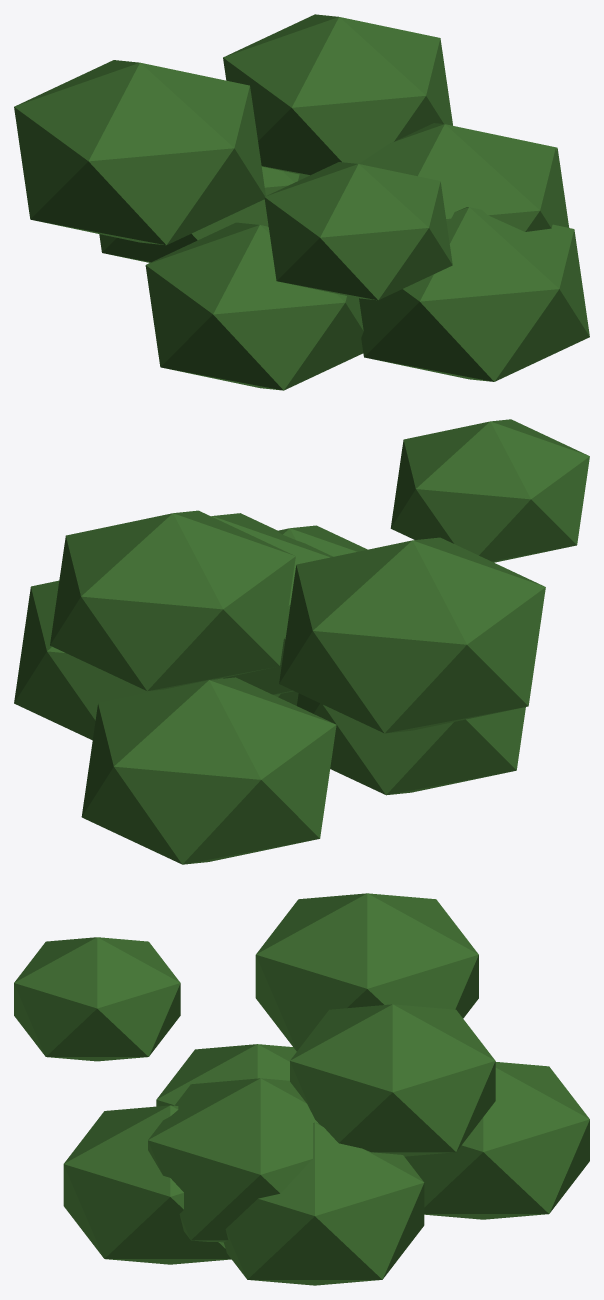
Rendered from ekin_patates_y.glb.
3 renders of one model, top to bottom at view 1: azimuth 30°, elevation 25°; view 2: azimuth 150°, elevation 25°; view 3: azimuth 270°, elevation 25°, orthographic. The views are drawn at different scales.
Visible parts, largest first — view 1: Cali; view 2: Cali; view 3: Cali.
Boxes of the visible parts, x1=… form: Cali: x1=14, y1=14, x2=589, y2=390; Cali: x1=14, y1=419, x2=589, y2=864; Cali: x1=14, y1=893, x2=589, y2=1285.
Bounding box in the file's own units: 0.1864 × 0.106 × 0.2016.
